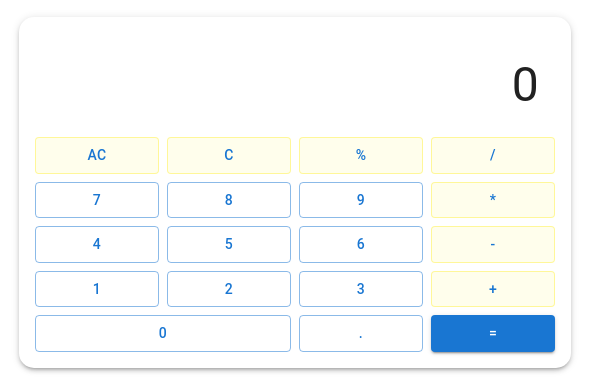
it: Test calculator app. › Does multiplication correctly.
The width and height of the screenshot is (591, 390).
Click the button "1" at coordinates (97, 289), box [35, 270, 159, 307]
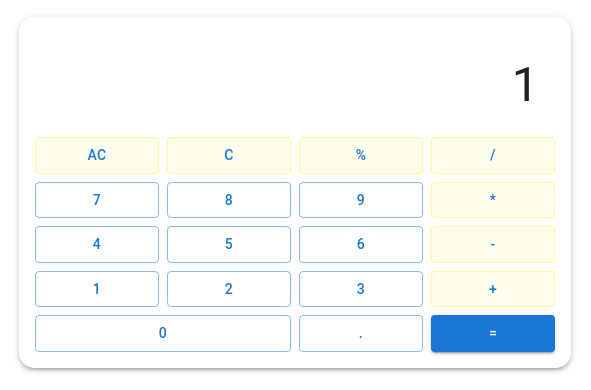
Click the button "0" at coordinates (163, 333), box [35, 315, 291, 352]
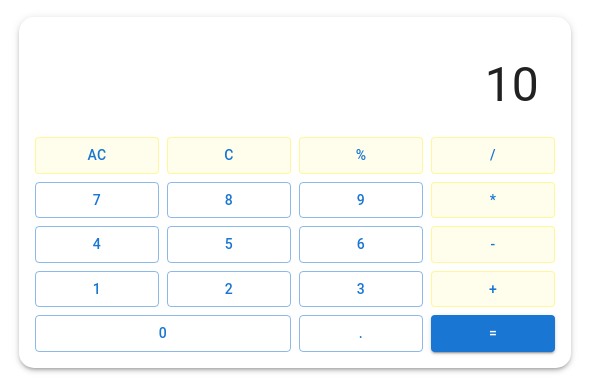
Click the button "*" at coordinates (493, 200), box [431, 182, 555, 218]
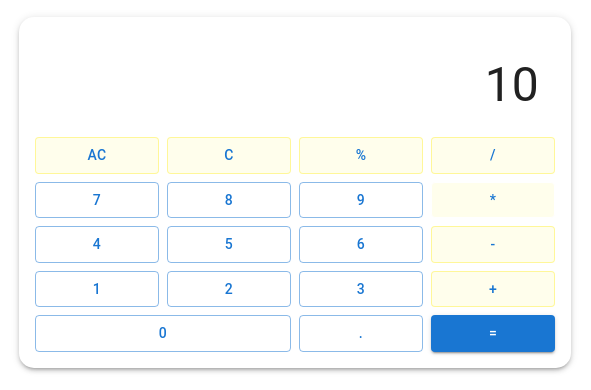
Click the button "3" at coordinates (361, 289), box [299, 270, 423, 307]
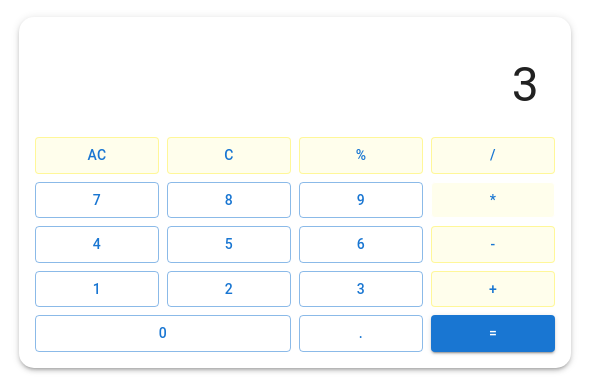
Click the button "6" at coordinates (361, 244), box [299, 226, 423, 262]
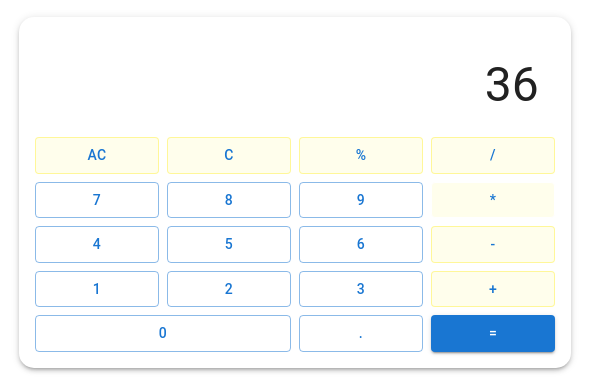
Click the button "=" at coordinates (493, 333), box [431, 315, 555, 352]
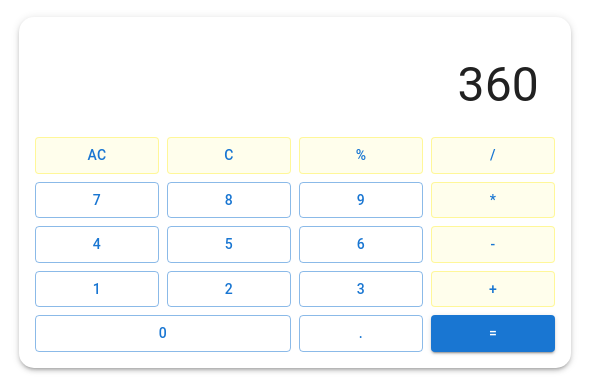
Check: the text with test id "output" reads "360", box [458, 56, 539, 113]
